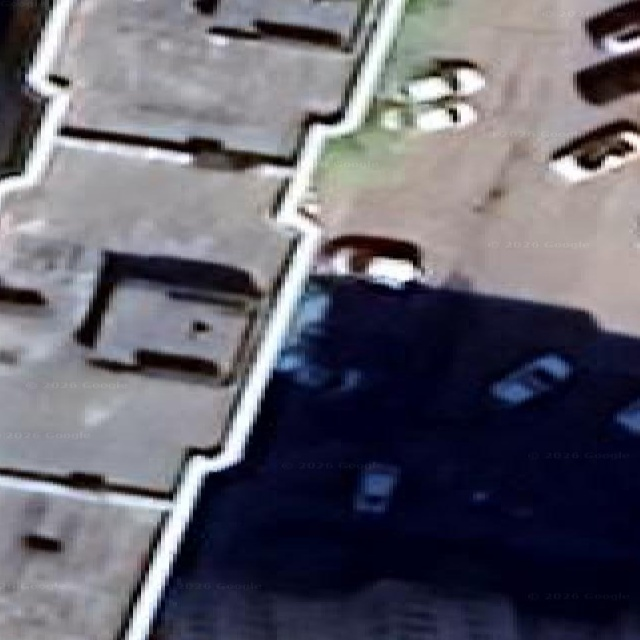car: (317, 235, 422, 287), (550, 123, 639, 182), (491, 354, 572, 405), (400, 61, 485, 102), (380, 102, 477, 132), (615, 399, 640, 435)
